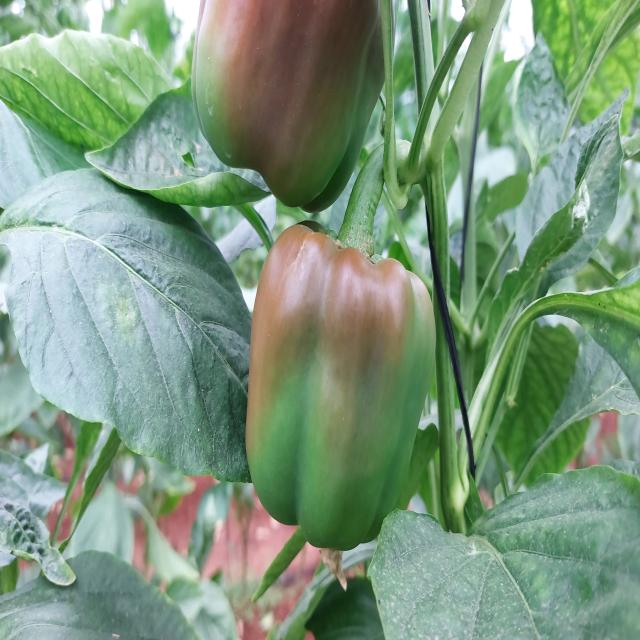BrownishRed--Can-be-Harvested: (242, 226, 433, 553), (191, 0, 396, 211)
